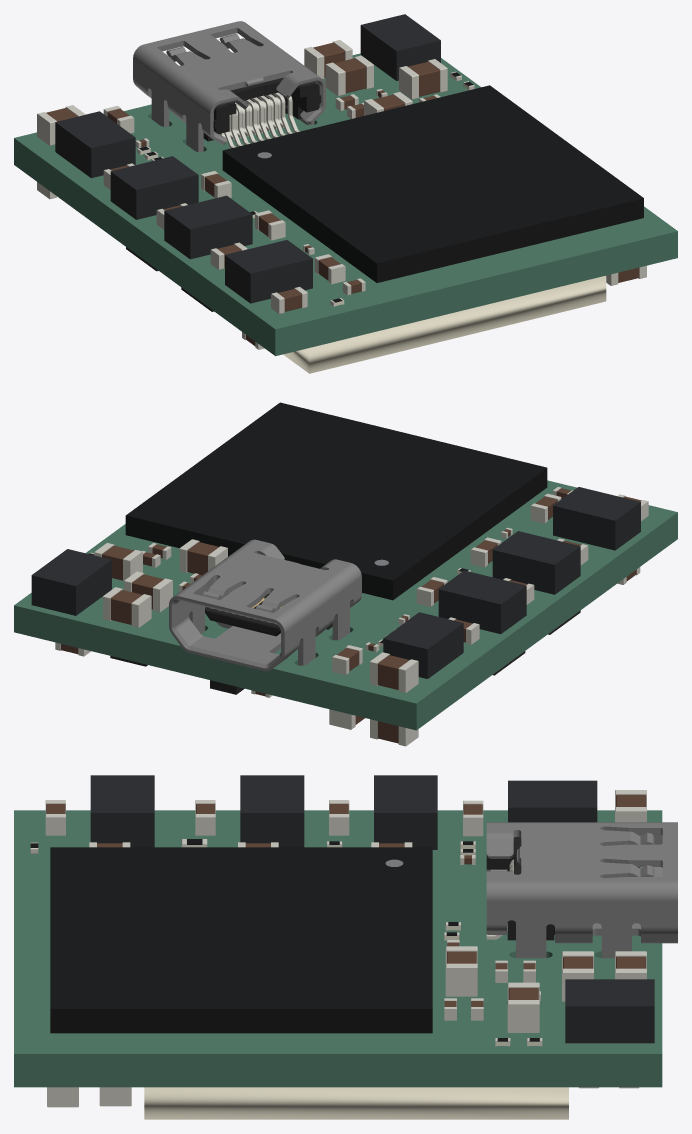
Rendered from frontend-8l-v1.glb.
3 views of the same model, one above another, from view 1: azimuth 30°, elevation 25°; view 2: azimuth 150°, elevation 25°; view 3: azimuth 270°, elevation 25° (orthographic). The views are drawn at different scales.
Parts seen in each view (by area): view 1: CSG325_Body, =>[0:1:1:390], =>[0:1:1:358], =>[0:1:1:376], =>[0:1:1:3] (×5), U2 (Shell), U13 (Shell), U4 (Shell), U3 (Shell), U16 (Shell), =>[0:1:1:345] (×4); view 2: CSG325_Body, =>[0:1:1:390], =>[0:1:1:358], =>[0:1:1:3] (×6), U4 (Shell), U13 (Shell), U2 (Shell), U16 (Shell), U3 (Shell), =>[0:1:1:345] (×4); view 3: CSG325_Body, =>[0:1:1:390], =>[0:1:1:358], =>[0:1:1:378], =>[0:1:1:3] (×7), U16 (Shell), U2 (Shell), U4 (Shell), U13 (Shell), U3 (Shell), =>[0:1:1:345] (×4).
Boxes of the visible parts, x1=… form: CSG325_Body: x1=222, y1=85, x2=643, y2=282; =>[0:1:1:390]: x1=14, y1=53, x2=677, y2=356; =>[0:1:1:358]: x1=133, y1=21, x2=325, y2=152; =>[0:1:1:376]: x1=283, y1=276, x2=606, y2=373; =>[0:1:1:3] (×5): x1=37, y1=40, x2=447, y2=145; U2 (Shell): x1=164, y1=195, x2=252, y2=259; U13 (Shell): x1=110, y1=156, x2=198, y2=219; U4 (Shell): x1=225, y1=240, x2=312, y2=303; U3 (Shell): x1=55, y1=111, x2=135, y2=178; U16 (Shell): x1=360, y1=14, x2=440, y2=80; =>[0:1:1:345] (×4): x1=201, y1=171, x2=345, y2=313; CSG325_Body: x1=125, y1=402, x2=547, y2=600; =>[0:1:1:390]: x1=14, y1=480, x2=677, y2=730; =>[0:1:1:358]: x1=169, y1=539, x2=361, y2=671; =>[0:1:1:3] (×6): x1=94, y1=539, x2=418, y2=746; U4 (Shell): x1=553, y1=487, x2=640, y2=550; U13 (Shell): x1=438, y1=570, x2=526, y2=634; U2 (Shell): x1=492, y1=531, x2=580, y2=594; U16 (Shell): x1=31, y1=549, x2=111, y2=615; U3 (Shell): x1=383, y1=612, x2=463, y2=678; =>[0:1:1:345] (×4): x1=332, y1=493, x2=561, y2=675; CSG325_Body: x1=50, y1=847, x2=432, y2=1033; =>[0:1:1:390]: x1=14, y1=810, x2=662, y2=1087; =>[0:1:1:358]: x1=486, y1=822, x2=677, y2=958; =>[0:1:1:378]: x1=144, y1=1087, x2=568, y2=1119; =>[0:1:1:3] (×7): x1=47, y1=790, x2=646, y2=1107; U16 (Shell): x1=565, y1=979, x2=654, y2=1043; U2 (Shell): x1=240, y1=775, x2=304, y2=847; U4 (Shell): x1=90, y1=775, x2=154, y2=847; U13 (Shell): x1=374, y1=775, x2=437, y2=849; U3 (Shell): x1=508, y1=780, x2=597, y2=822; =>[0:1:1:345] (×4): x1=45, y1=800, x2=483, y2=836.
Bounding box in the file's own units: 0.0226 × 0.00593 × 0.026.
